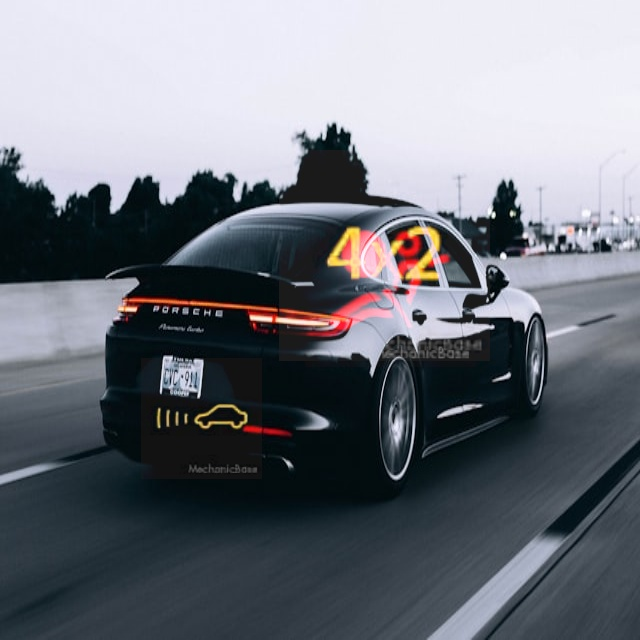symbol: (279, 150, 490, 361), (305, 196, 476, 367), (141, 358, 262, 479)
